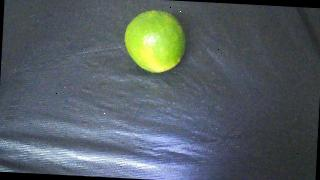LOCAL: (123, 9, 187, 74)
